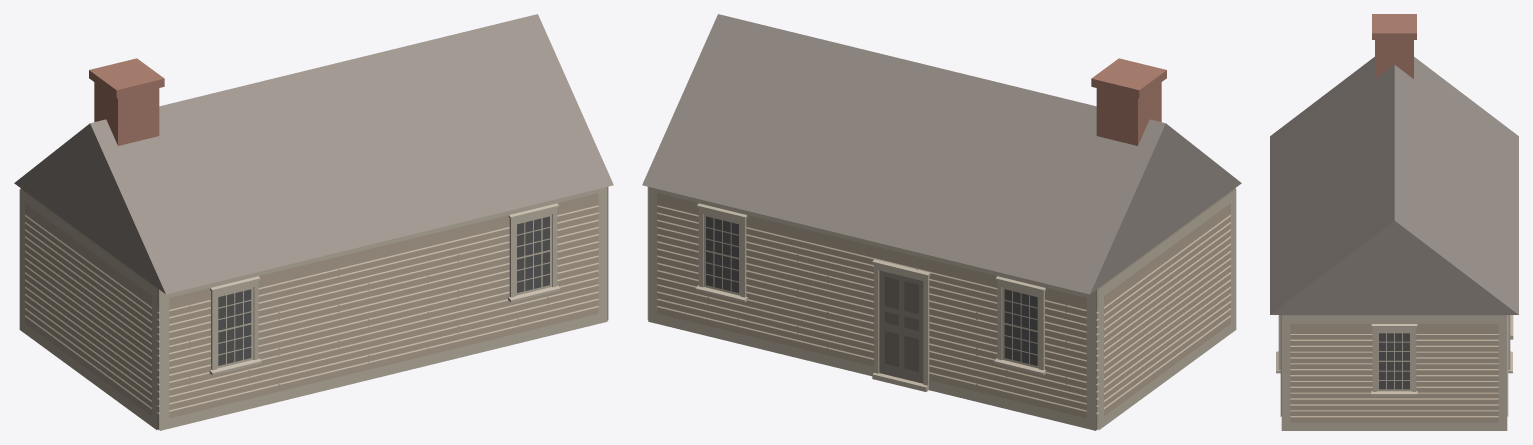
The model's file is lasalle_lake_house__documented_1834.glb.
3 renders of one model, left to right at view 1: azimuth 30°, elevation 25°; view 2: azimuth 150°, elevation 25°; view 3: azimuth 270°, elevation 25°, orthographic. The views are drawn at different scales.
Visible parts, largest first — view 1: lasalle_lake_house__documented_1834; view 2: lasalle_lake_house__documented_1834; view 3: lasalle_lake_house__documented_1834.
Part boxes in pixels (left/top/right/bottom): lasalle_lake_house__documented_1834: left=14, top=14, right=613, bottom=430; lasalle_lake_house__documented_1834: left=642, top=14, right=1241, bottom=430; lasalle_lake_house__documented_1834: left=1270, top=14, right=1518, bottom=430.
Bounding box in the file's own units: 9.3 × 5.79 × 5.38.
